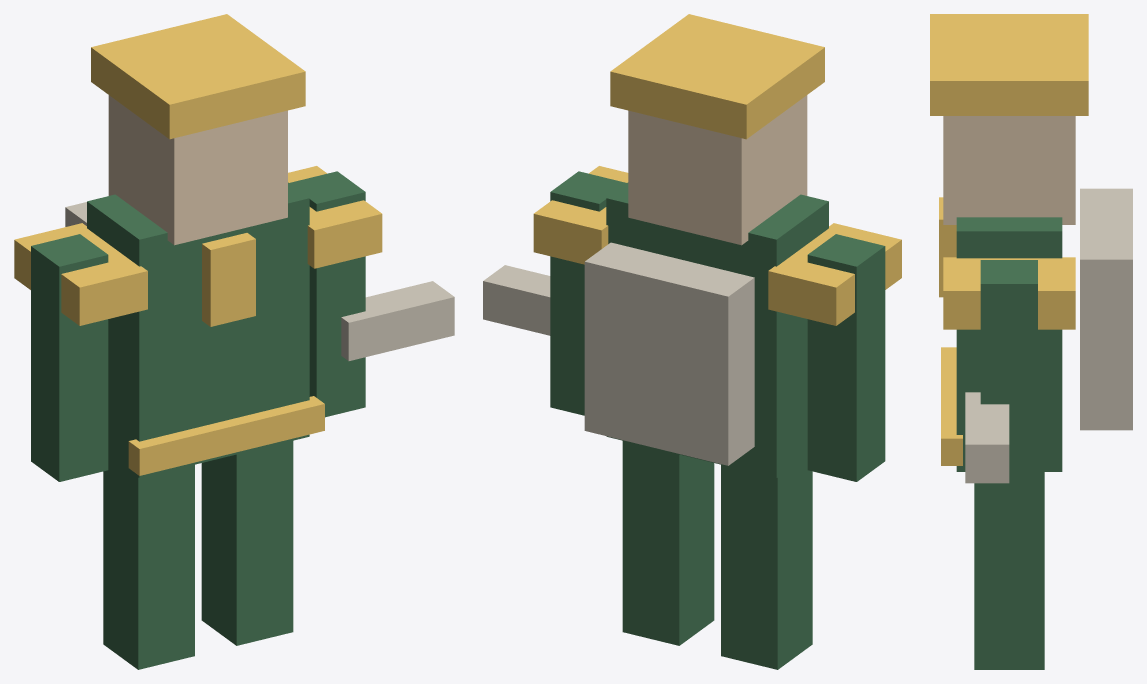
Rendered from 06_eryk_holloway_broker_at_chain_lift.glb.
The picture shows the model from 3 angles, left to right: view 1: azimuth 30°, elevation 25°; view 2: azimuth 150°, elevation 25°; view 3: azimuth 270°, elevation 25°; orthographic projection.
Parts seen in each view (by area): view 1: Eryk Holloway, Broker at Chain-Lift; view 2: Eryk Holloway, Broker at Chain-Lift; view 3: Eryk Holloway, Broker at Chain-Lift.
Part boxes in pixels (x1=…): Eryk Holloway, Broker at Chain-Lift: x1=14, y1=14, x2=454, y2=669; Eryk Holloway, Broker at Chain-Lift: x1=483, y1=14, x2=901, y2=669; Eryk Holloway, Broker at Chain-Lift: x1=930, y1=14, x2=1132, y2=669.
Bounding box in the file's own units: 1.1 × 1.57 × 0.4934.
